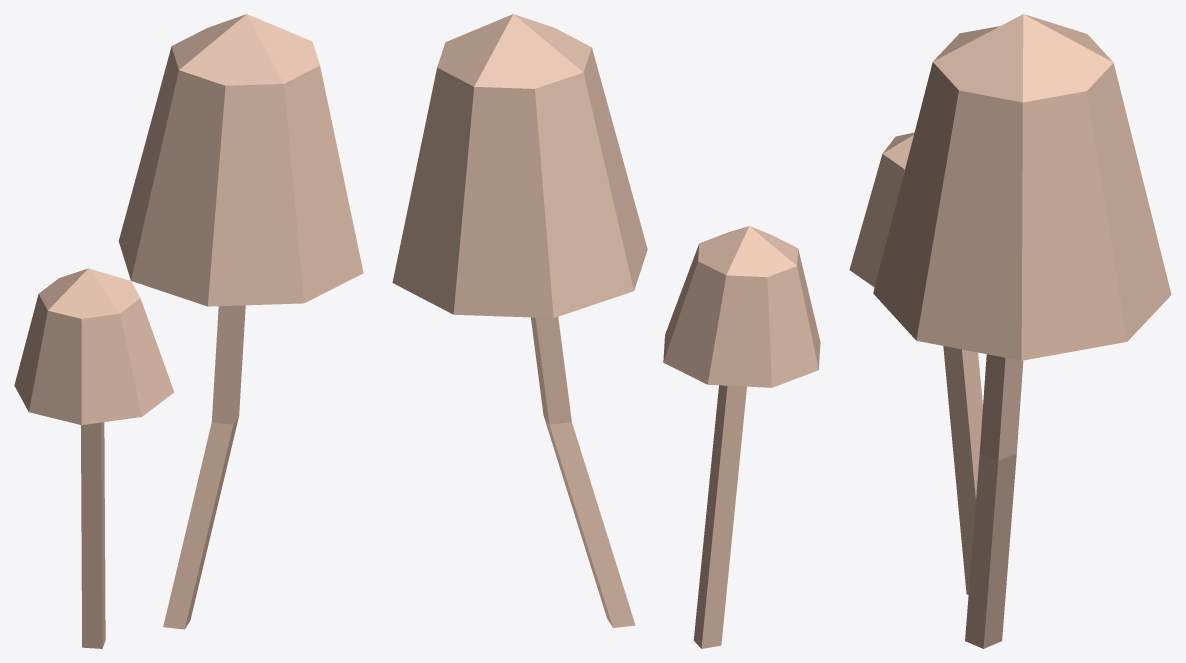
Rendered from Mushroom_b_06.fbx.
3 views of the same model, side by side, from view 1: azimuth 30°, elevation 25°; view 2: azimuth 150°, elevation 25°; view 3: azimuth 270°, elevation 25° (orthographic). The views are drawn at different scales.
Visible parts, largest first — view 1: Mushroom_b_06; view 2: Mushroom_b_06; view 3: Mushroom_b_06.
Part boxes in pixels (x1,y1,x2,y2): Mushroom_b_06: (14, 14, 363, 648); Mushroom_b_06: (392, 14, 820, 648); Mushroom_b_06: (849, 14, 1171, 648).
Size of the model in its own units: 22.81 by 34.9 by 15.05.
